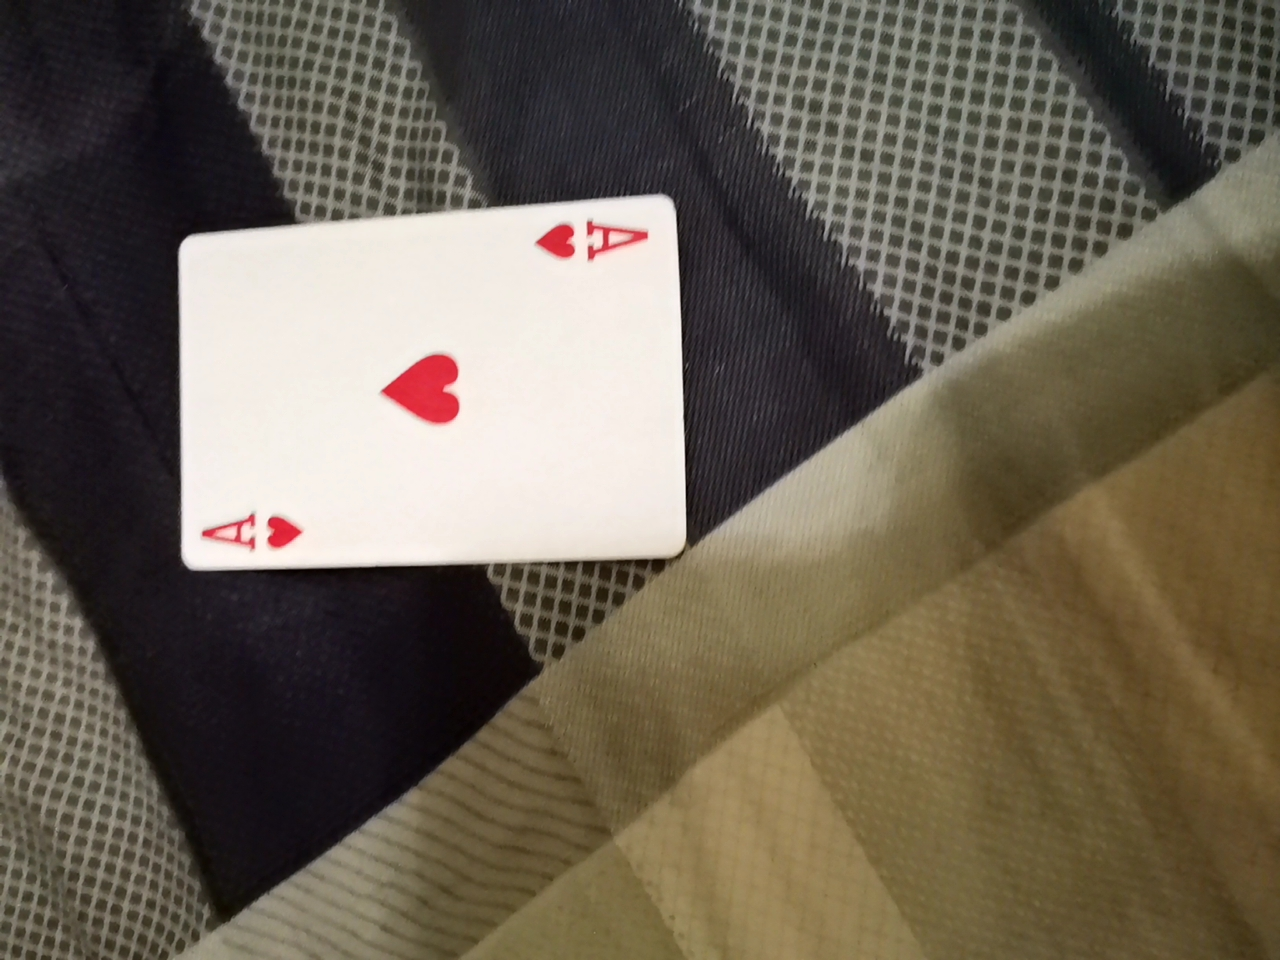hx a: (171, 173, 684, 559)
